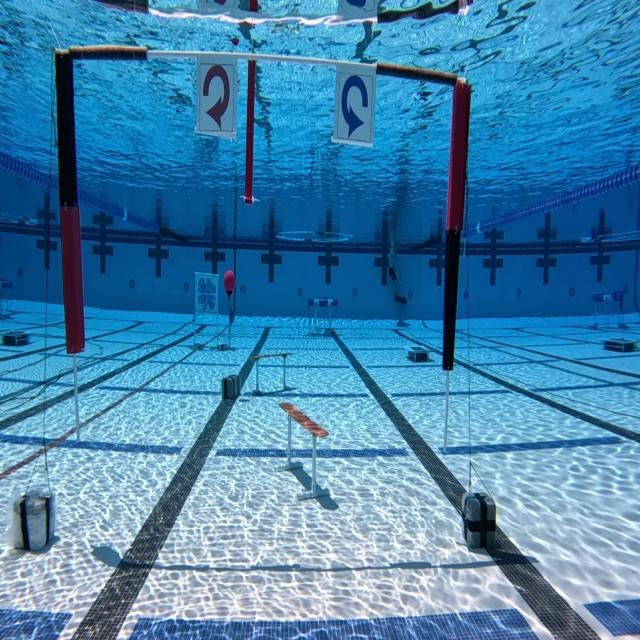blue_side: (335, 60, 375, 146)
red_side: (192, 52, 239, 132)
